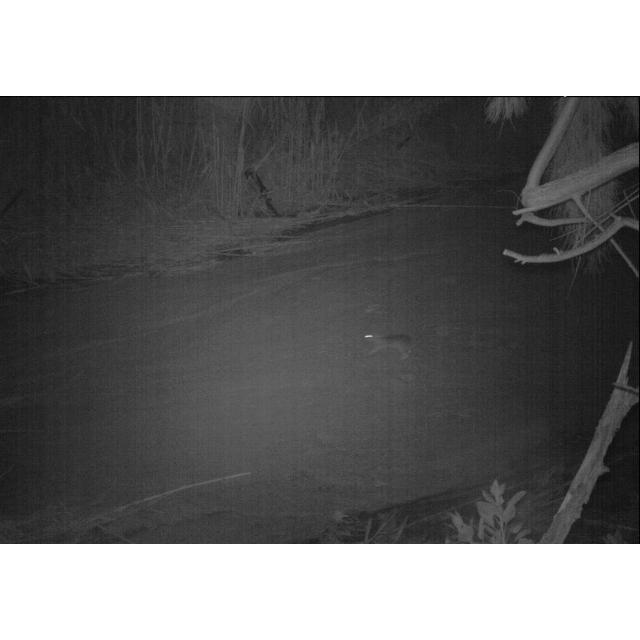animals: (362, 328, 416, 366)
